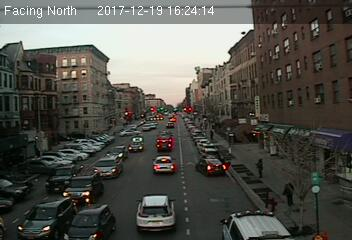car: (18, 198, 76, 237), (64, 204, 115, 240), (135, 195, 177, 234), (64, 173, 104, 204), (46, 166, 81, 192), (93, 155, 122, 177), (196, 158, 228, 176), (152, 155, 176, 174), (107, 146, 128, 160), (127, 142, 145, 152), (156, 142, 173, 151)
pedestrian: (257, 157, 266, 181)
police: (222, 206, 289, 240)
